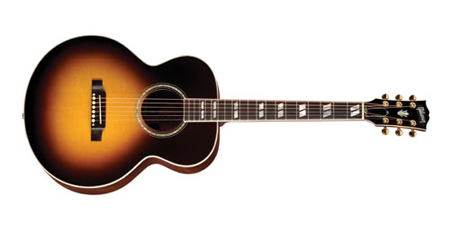guitar: (18, 35, 434, 199)
